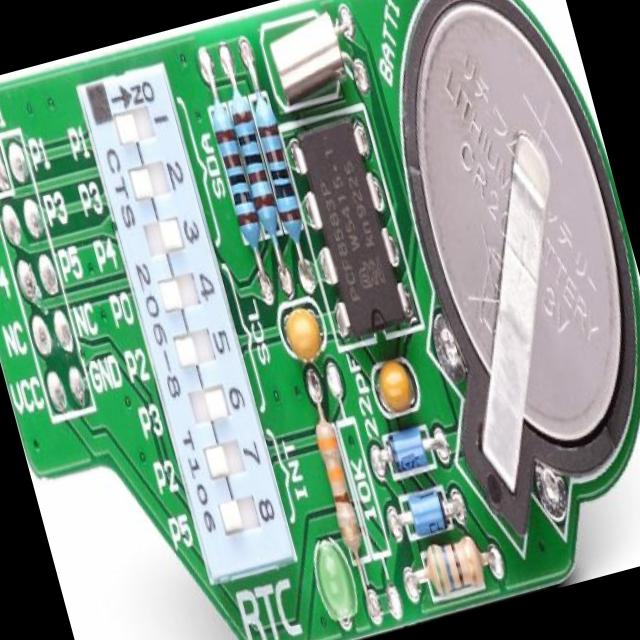LED: (307, 532, 361, 626)
capacitor: (280, 298, 326, 368), (368, 353, 421, 413)
diode: (392, 484, 454, 538), (374, 428, 438, 470)
resistor: (190, 53, 270, 266), (237, 42, 310, 254), (214, 47, 287, 246), (304, 388, 368, 558), (413, 526, 499, 608)
